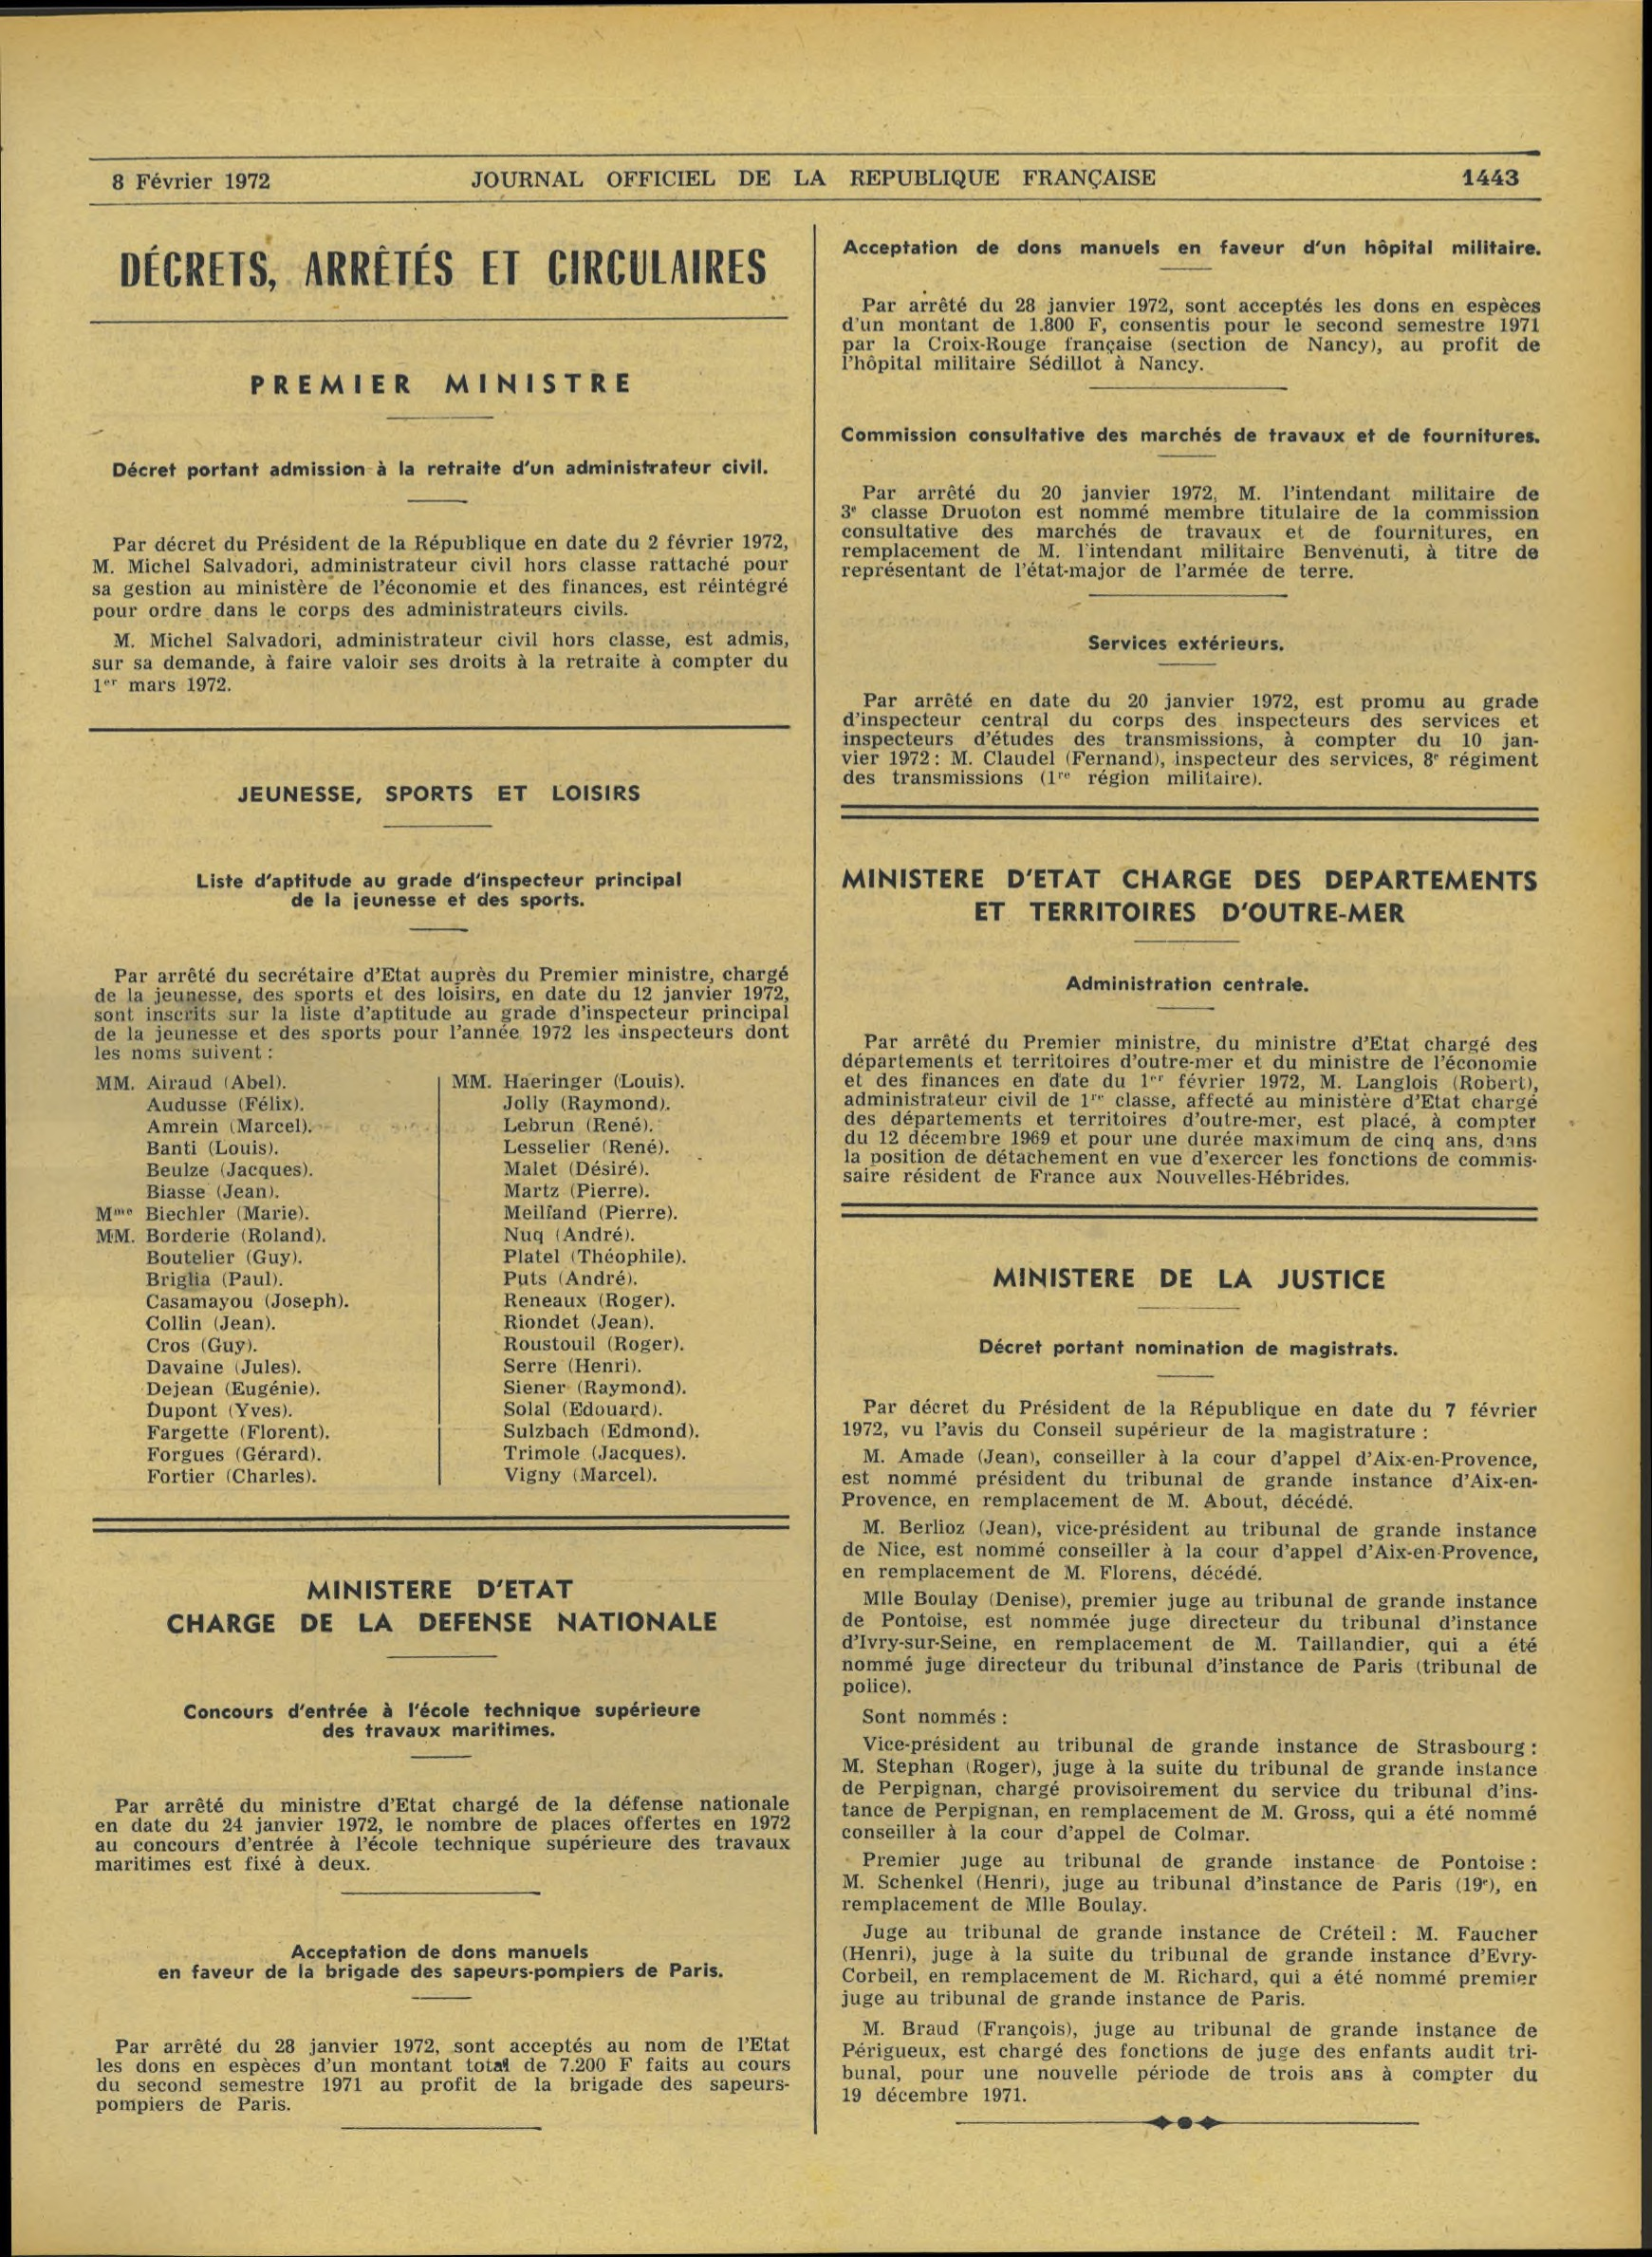MainZone-Date: (104, 163, 278, 201)
MainZone-Head: (835, 859, 1547, 932), (105, 237, 782, 306), (155, 1570, 728, 1644), (834, 231, 1548, 283), (142, 1936, 731, 1987), (158, 1693, 714, 1747), (186, 863, 692, 918), (833, 420, 1547, 455), (84, 452, 781, 486), (237, 360, 638, 408), (985, 1259, 1392, 1301), (227, 774, 646, 812), (971, 1333, 1415, 1362), (1060, 968, 1316, 1002), (1083, 628, 1289, 663)
MainZone-ListItem: (451, 1072, 688, 1092), (91, 1207, 312, 1228), (142, 1091, 304, 1119), (93, 1230, 329, 1249), (499, 1246, 689, 1266), (500, 1203, 681, 1222), (499, 1094, 670, 1115), (91, 1073, 295, 1091), (144, 1446, 318, 1466), (144, 1119, 323, 1138), (496, 1467, 656, 1488), (137, 1184, 286, 1205), (505, 1399, 660, 1420), (141, 1162, 319, 1180), (506, 1293, 682, 1311), (144, 1140, 288, 1162), (498, 1183, 652, 1203), (499, 1140, 678, 1157), (141, 1295, 355, 1309), (506, 1314, 658, 1334), (134, 1315, 278, 1335), (148, 1356, 304, 1375), (144, 1469, 315, 1486), (148, 1427, 328, 1443), (500, 1426, 704, 1440), (136, 1250, 305, 1267), (501, 1382, 686, 1397), (145, 1404, 291, 1423), (502, 1447, 683, 1463), (499, 1119, 658, 1136), (145, 1383, 321, 1398), (504, 1270, 642, 1289), (499, 1337, 688, 1351), (140, 1270, 287, 1287), (504, 1162, 647, 1179), (502, 1359, 640, 1376), (501, 1226, 635, 1242), (146, 1336, 261, 1353)
MainZone-P: (836, 1028, 1546, 1193), (835, 1586, 1547, 1701), (837, 1730, 1547, 1845), (833, 478, 1550, 590), (835, 684, 1551, 793), (86, 960, 793, 1064), (84, 529, 794, 625), (834, 1918, 1548, 2013), (836, 2015, 1548, 2110), (85, 1789, 799, 1880), (86, 2030, 800, 2121), (834, 291, 1549, 379), (84, 625, 795, 700), (835, 1514, 1549, 1586), (836, 1847, 1546, 1919), (837, 1444, 1545, 1514), (835, 1391, 1545, 1443), (840, 1705, 1012, 1733)
StampZone: (461, 160, 1165, 198)
TitlePageZone: (1456, 162, 1527, 194)
